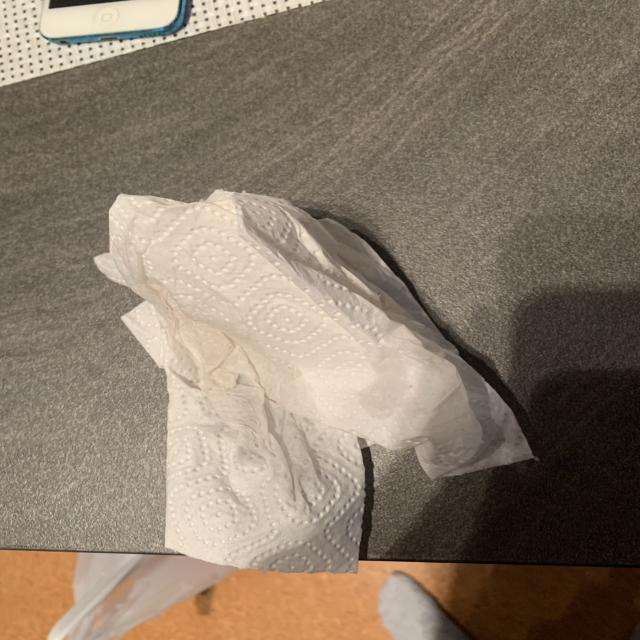kitchen paper: (89, 182, 535, 580)
